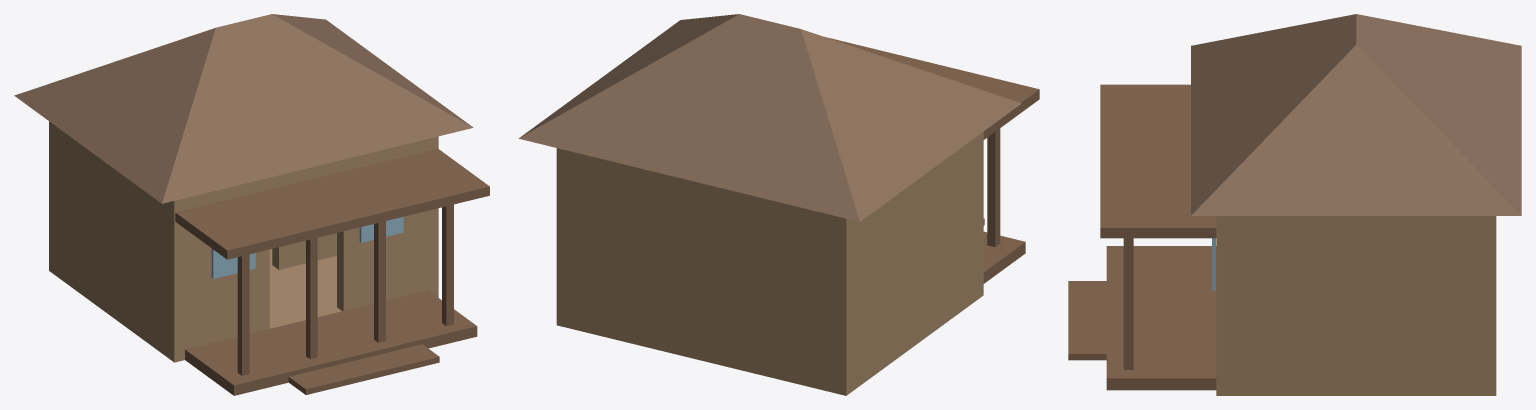
File: farmhouse.glb
The picture shows the model from 3 angles, left to right: view 1: azimuth 30°, elevation 25°; view 2: azimuth 150°, elevation 25°; view 3: azimuth 270°, elevation 25°; orthographic projection. The views are drawn at different scales.
Parts seen in each view (by area): view 1: building_0_21, building_0_1, building_0_16, building_0_10, building_0_4, building_0_5, building_0_0, building_0_11, building_0_12, building_0_13, building_0_14, building_0_15 (+6 smaller); view 2: building_0_21, building_0_3, building_0_1, building_0_0, building_0_16, building_0_2, building_0_12, building_0_10; view 3: building_0_21, building_0_2, building_0_10, building_0_16, building_0_11, building_0_0, building_0_15, building_0_8.
Boxes of the visible parts, bbox=[...] form: building_0_21: bbox=[14, 14, 473, 203]; building_0_1: bbox=[49, 121, 185, 361]; building_0_16: bbox=[175, 148, 489, 259]; building_0_10: bbox=[185, 290, 477, 395]; building_0_4: bbox=[185, 177, 269, 349]; building_0_5: bbox=[337, 139, 427, 310]; building_0_0: bbox=[49, 249, 438, 362]; building_0_11: bbox=[288, 344, 439, 394]; building_0_12: bbox=[237, 254, 249, 375]; building_0_13: bbox=[306, 238, 317, 359]; building_0_14: bbox=[374, 221, 385, 342]; building_0_15: bbox=[442, 204, 453, 325]; building_0_21: bbox=[519, 14, 1021, 221]; building_0_3: bbox=[569, 151, 833, 392]; building_0_1: bbox=[834, 132, 983, 394]; building_0_0: bbox=[556, 288, 983, 395]; building_0_16: bbox=[825, 37, 1039, 139]; building_0_2: bbox=[556, 148, 569, 317]; building_0_12: bbox=[987, 128, 1000, 246]; building_0_10: bbox=[983, 231, 1025, 283]; building_0_21: bbox=[1191, 14, 1521, 215]; building_0_2: bbox=[1216, 216, 1496, 395]; building_0_10: bbox=[1106, 246, 1216, 390]; building_0_16: bbox=[1100, 84, 1216, 238]; building_0_11: bbox=[1068, 281, 1106, 360]; building_0_0: bbox=[1216, 385, 1496, 395]; building_0_15: bbox=[1123, 238, 1133, 369]; building_0_8: bbox=[1349, 216, 1363, 395].
Bounding box in the file's own units: 4.96 × 4.01 × 5.58.
